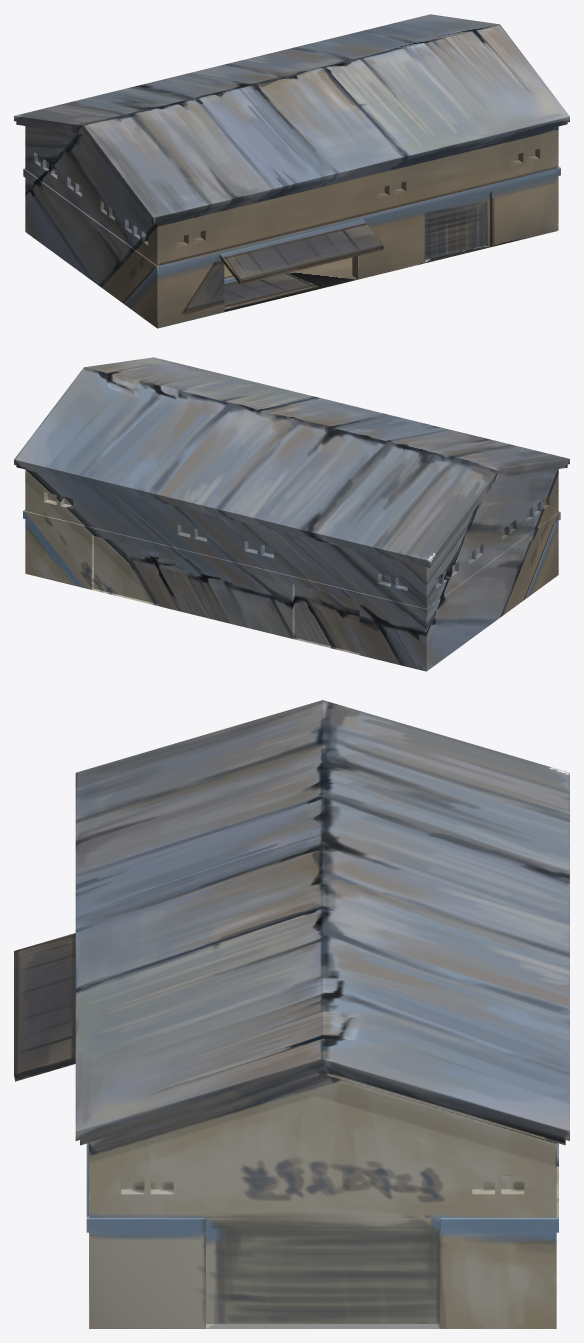
Rendered from warehouse.fbx.
3 views of the same model, one above another, from view 1: azimuth 30°, elevation 25°; view 2: azimuth 150°, elevation 25°; view 3: azimuth 270°, elevation 25° (orthographic). The views are drawn at different scales.
Visible parts, largest first — view 1: warehouse 2; view 2: warehouse 2; view 3: warehouse 2.
Boxes of the visible parts, left/top/right/bottom form: warehouse 2: left=14, top=14, right=569, bottom=328; warehouse 2: left=14, top=357, right=569, bottom=671; warehouse 2: left=14, top=700, right=569, bottom=1328.
Size of the model in its own units: 443 by 159 by 290.
Materials: 1 (1 with a texture image).
